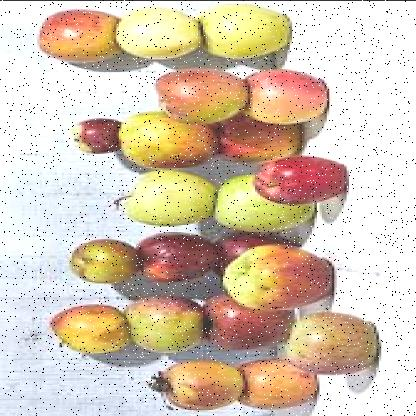apple: (208, 171, 307, 241), (233, 61, 337, 124), (109, 170, 223, 227), (180, 300, 290, 358), (121, 108, 213, 176), (230, 248, 334, 308), (156, 61, 245, 122), (124, 299, 213, 359), (213, 106, 305, 163), (37, 7, 129, 64), (250, 153, 349, 205), (206, 3, 290, 58), (118, 6, 196, 58), (148, 358, 228, 408), (67, 233, 139, 288), (235, 360, 312, 406), (66, 112, 126, 158)
